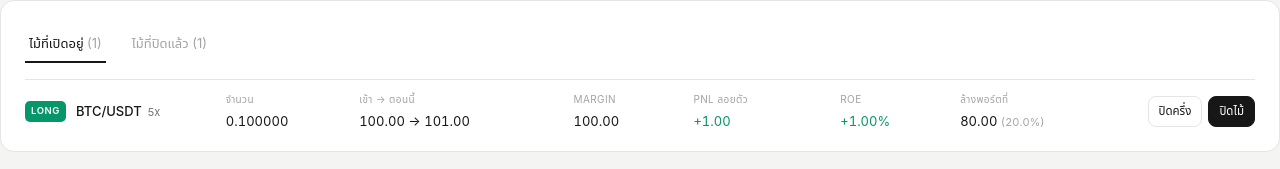
PositionsHistoryTabs › คลิก tab "ไม้ที่ปิดแล้ว" -> ต้องเห็นแถวประวัติ
Click the button "ไม้ที่ปิดแล้ว (1)": x=170, y=44 [128,25,211,63]
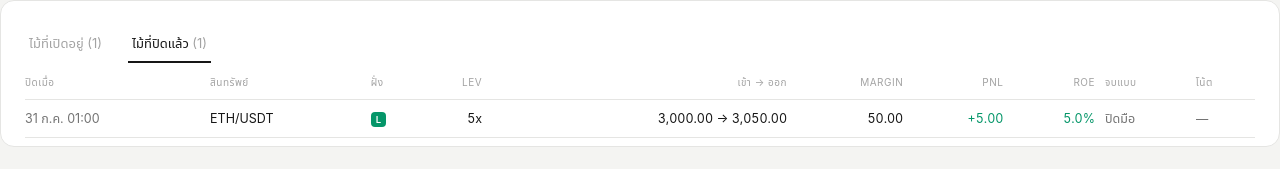
Now the text "ETH/USDT" is shown, box [210,99,371,138]
